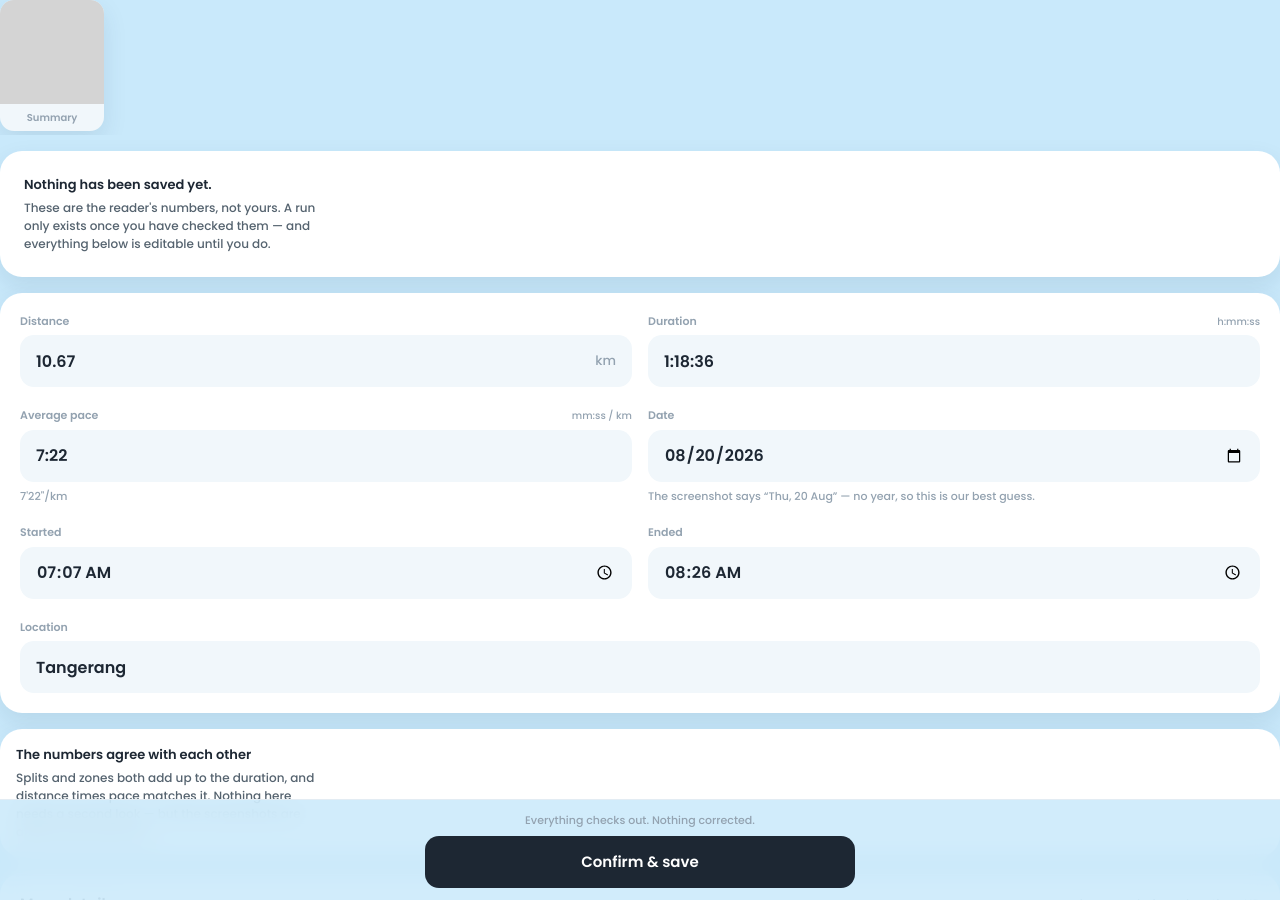
ReviewScreen — the two states that can come back from the action › a validation failure is an alert at the summary, and the save stays available once settled
This screenshot has width=1280, height=900.
Click the button "Confirm & save" at (640, 862), box [425,836,855,888]
(page scrolled)
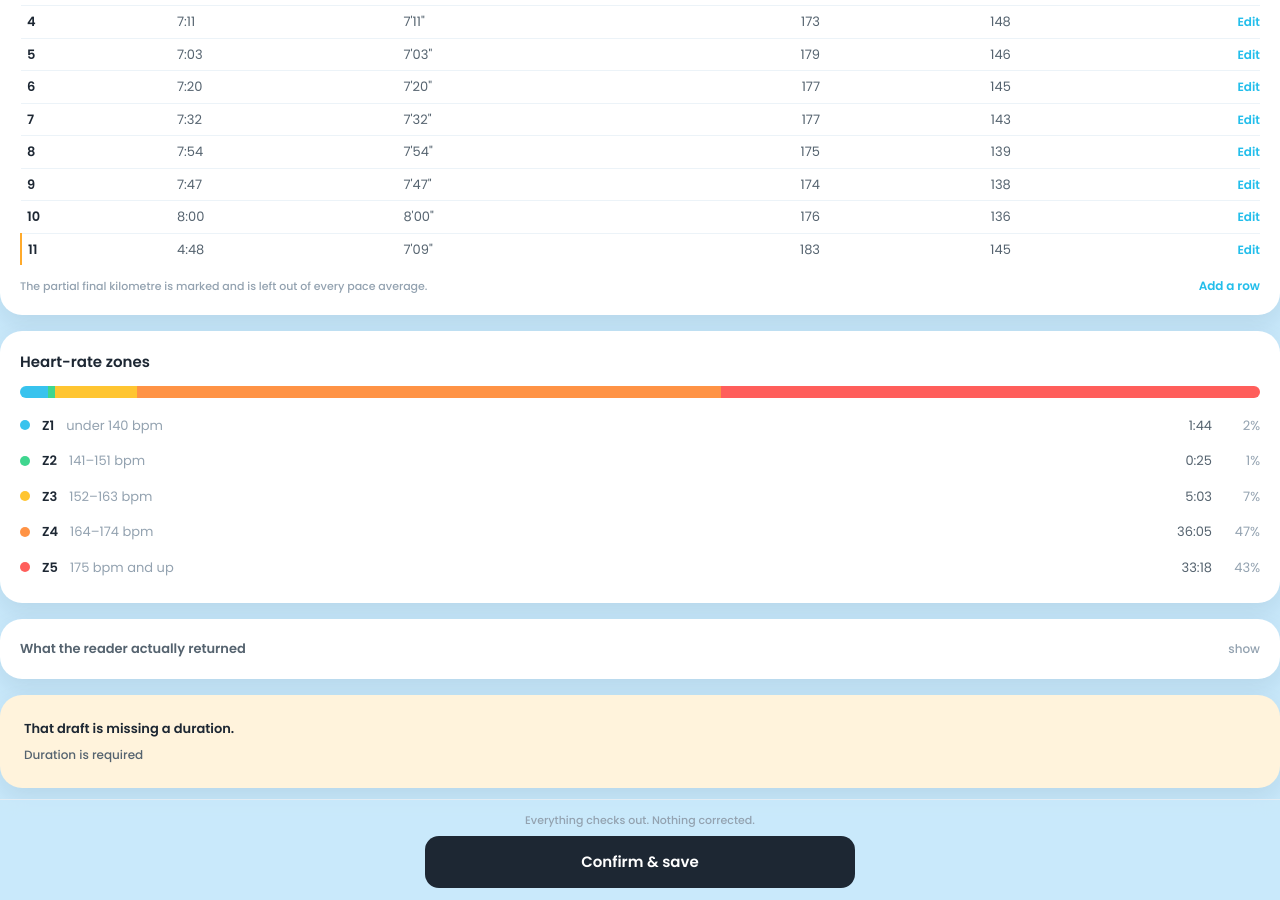
Check: the text "That draft is missing a duration." is shown, box [24,718,234,738]
Check: the text "Duration is required" is shown 2 times
